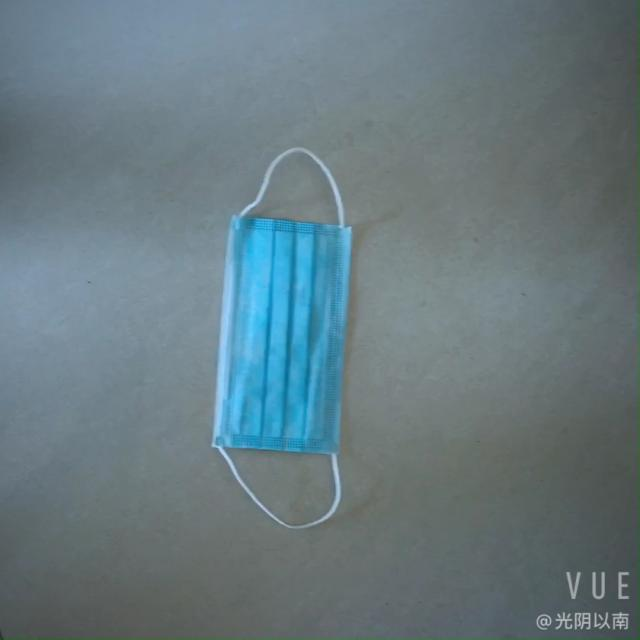face mask: (204, 214, 366, 473)
